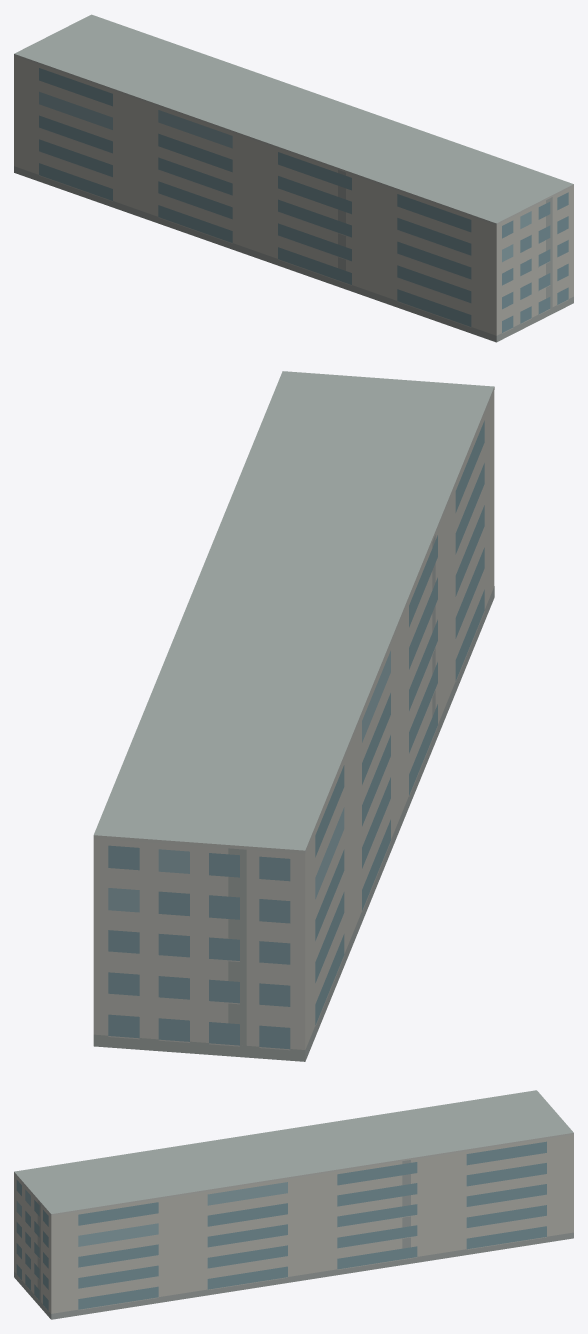
File: residential-63ae9d37-f057-4958-b453-0afcc0be305f.glb
The picture shows the model from 3 angles, top to bottom: view 1: azimuth 30°, elevation 25°; view 2: azimuth 150°, elevation 25°; view 3: azimuth 270°, elevation 25°; orthographic projection. The views are drawn at different scales.
Visible parts, largest first — view 1: residential-63ae9d37-f057-4958-b453-0afcc0be305f.tmp; view 2: residential-63ae9d37-f057-4958-b453-0afcc0be305f.tmp; view 3: residential-63ae9d37-f057-4958-b453-0afcc0be305f.tmp.
Boxes of the visible parts, x1,y1,x2,y2 form: residential-63ae9d37-f057-4958-b453-0afcc0be305f.tmp: (14,14,573,342); residential-63ae9d37-f057-4958-b453-0afcc0be305f.tmp: (93,371,494,1061); residential-63ae9d37-f057-4958-b453-0afcc0be305f.tmp: (14,1090,573,1319).
Size of the model in its own units: 38.42 by 15.25 by 73.28.
